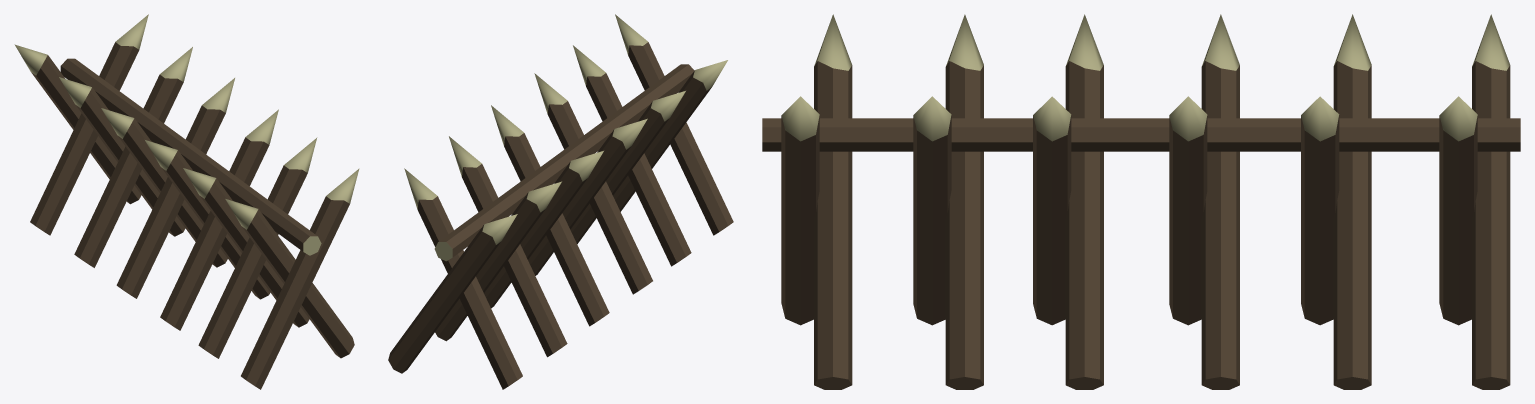
Rendered from FMP_Barricade_Shaded.fbx.
3 views of the same model, side by side, from view 1: azimuth 30°, elevation 25°; view 2: azimuth 150°, elevation 25°; view 3: azimuth 270°, elevation 25° (orthographic). The views are drawn at different scales.
Parts seen in each view (by area): view 1: pCylinder72; view 2: pCylinder72; view 3: pCylinder72.
Boxes of the visible parts, x1=… form: pCylinder72: x1=14, y1=14, x2=359, y2=389; pCylinder72: x1=388, y1=14, x2=733, y2=389; pCylinder72: x1=762, y1=14, x2=1520, y2=389.
Size of the model in its own units: 427 by 626 by 1407.
